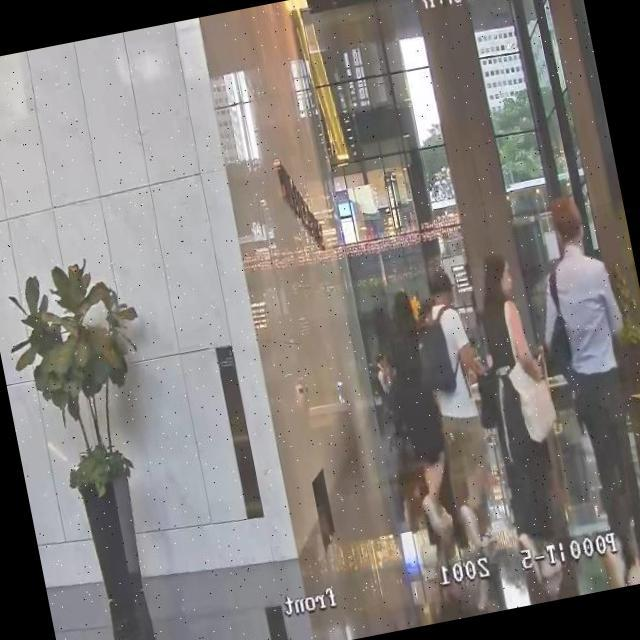person: (518, 189, 640, 592), (463, 248, 583, 563), (409, 262, 517, 562), (364, 287, 468, 563)
